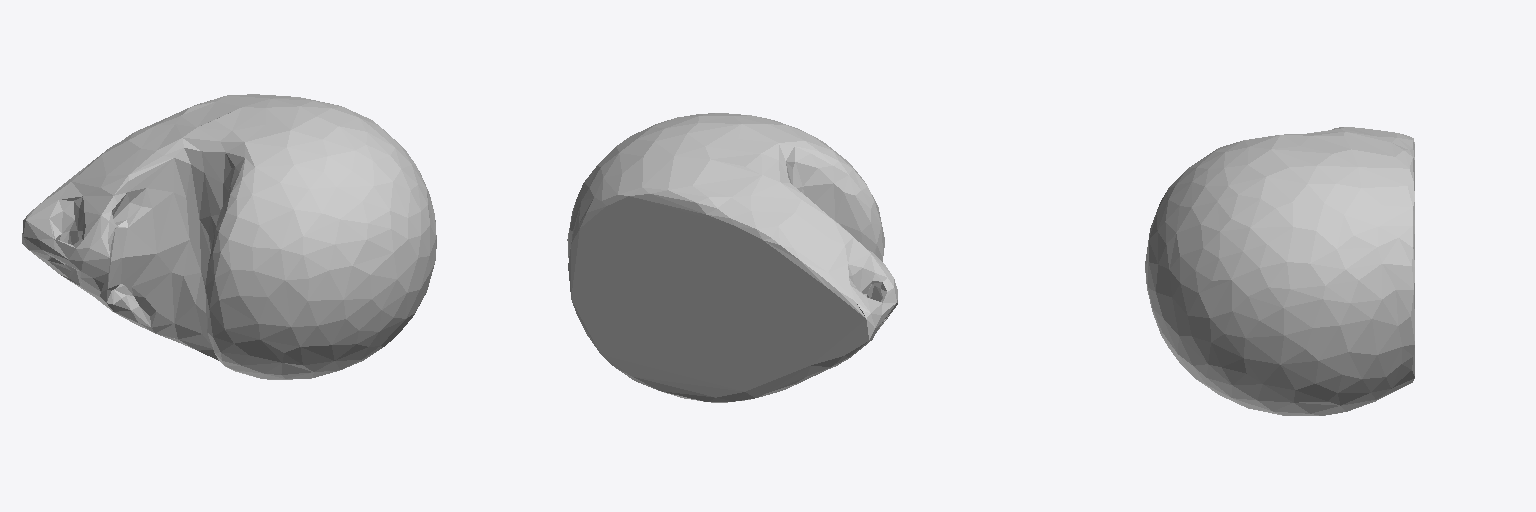
The model's file is helmet.obj.
3 views of the same model, side by side, from view 1: azimuth 30°, elevation 25°; view 2: azimuth 150°, elevation 25°; view 3: azimuth 270°, elevation 25° (orthographic).
Visible parts, largest first — view 1: object__1; view 2: object__1; view 3: object__1.
Part boxes in pixels (x1,y1,x2,y2): object__1: (22, 94, 436, 379); object__1: (567, 113, 897, 402); object__1: (1145, 127, 1414, 415).
Size of the model in its own units: 353 by 241 by 242.